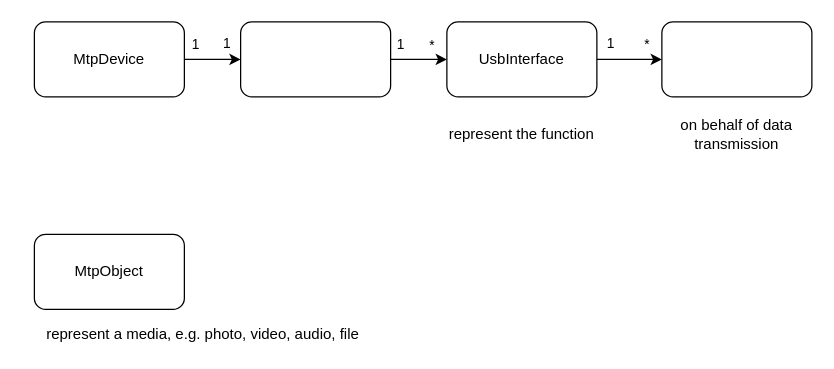
This 834x369 diagram has some shape labels left out. Each missing label, with the box of its shape:
UsbDevice: (239, 21, 391, 97)
UsbEndpoint: (661, 21, 812, 97)
